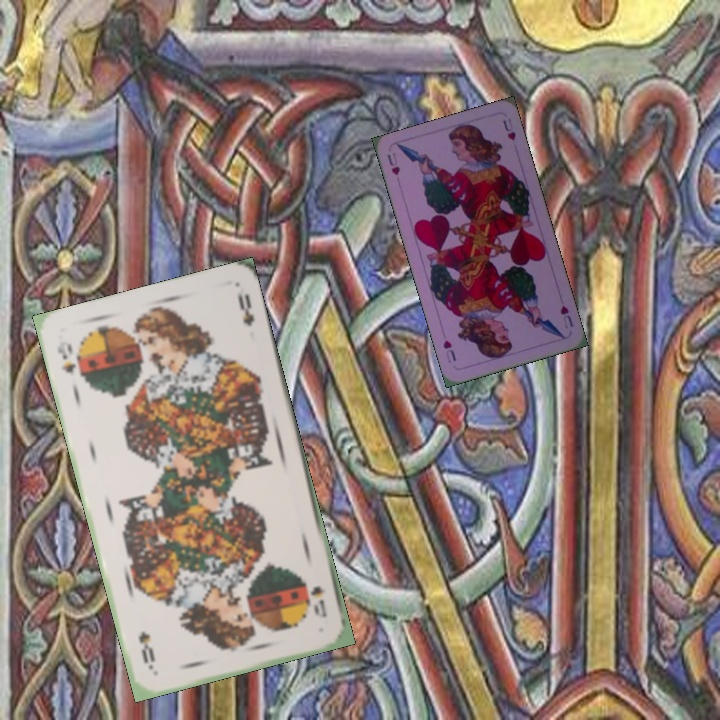HU: (556, 301, 576, 331), (383, 149, 403, 178)
SO: (53, 337, 84, 382), (306, 582, 330, 620)
